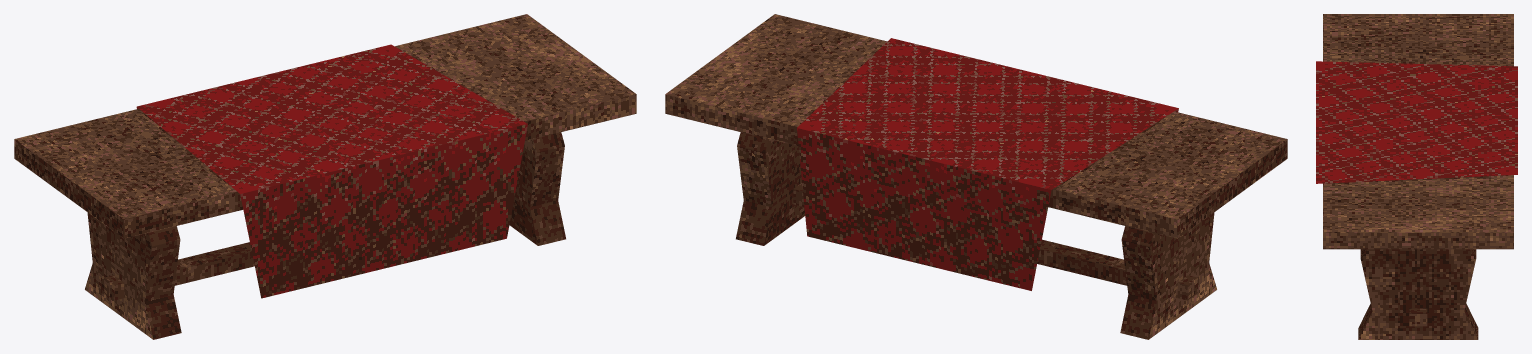
Rendered from Table_2.gltf.
3 renders of one model, left to right at view 1: azimuth 30°, elevation 25°; view 2: azimuth 150°, elevation 25°; view 3: azimuth 270°, elevation 25°, orthographic. The views are drawn at different scales.
Parts seen in each view (by area): view 1: Table_2; view 2: Table_2; view 3: Table_2.
Boxes of the visible parts, x1=… form: Table_2: x1=14, y1=14, x2=636, y2=339; Table_2: x1=665, y1=14, x2=1287, y2=339; Table_2: x1=1316, y1=14, x2=1517, y2=339.
Size of the model in its own units: 7.52 by 2.08 by 2.94.
Materials: 1 (1 with a texture image).
